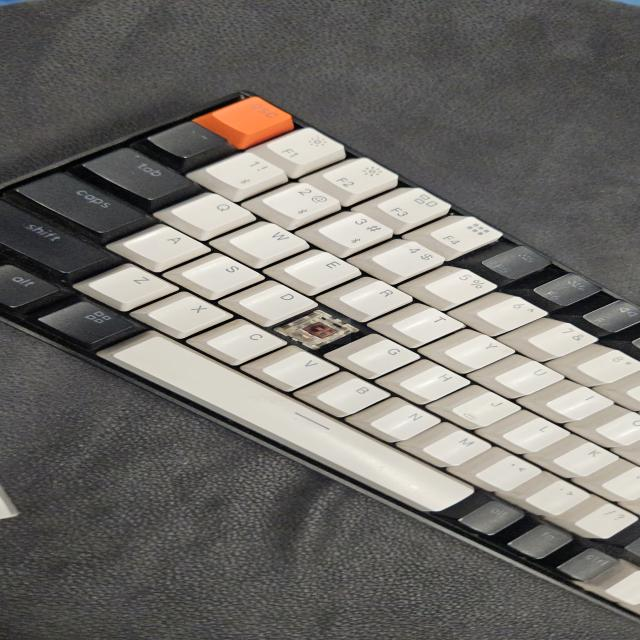C: (302, 318, 351, 344)
